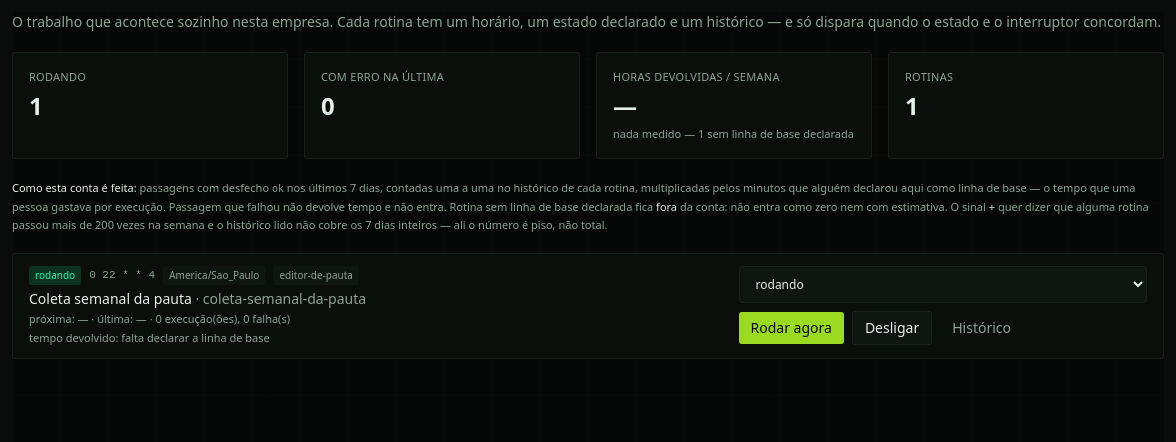
Test: nova rotina de coleta: na tela /rotinas › "Rodar agora" que volta pulada mostra o motivo
Click the button "Rodar agora". click: x=791, y=328
box: x1=738 y1=312 x2=844 y2=344
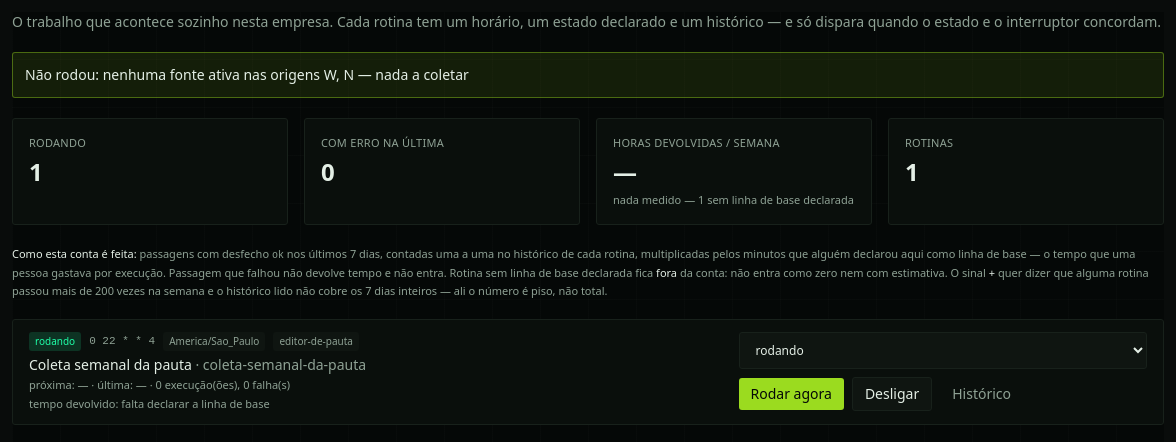
Result: the message reads "Não rodou: nenhuma fonte ativa nas origens W, N — nada a coletar" at x1=12 y1=52 x2=1164 y2=98
